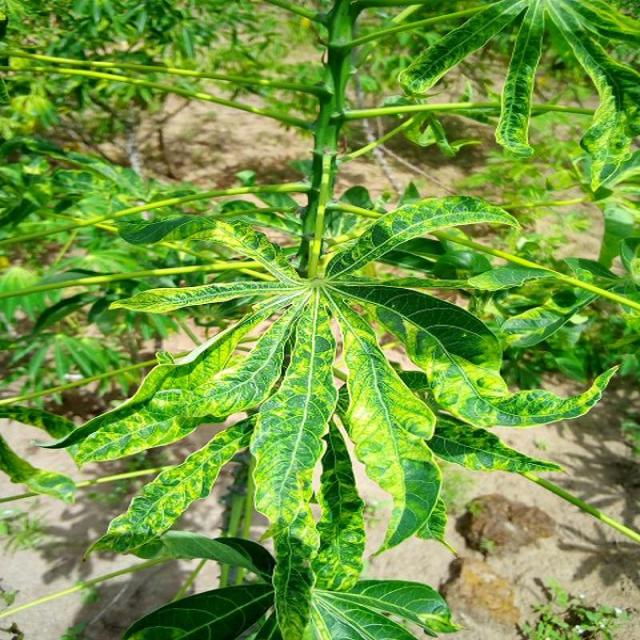cassava leaf: (34, 180, 623, 637)
